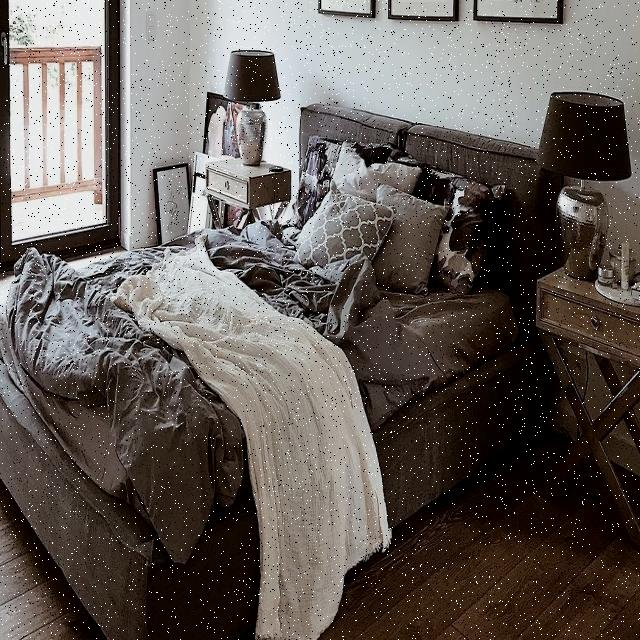bed: (0, 118, 533, 576)
